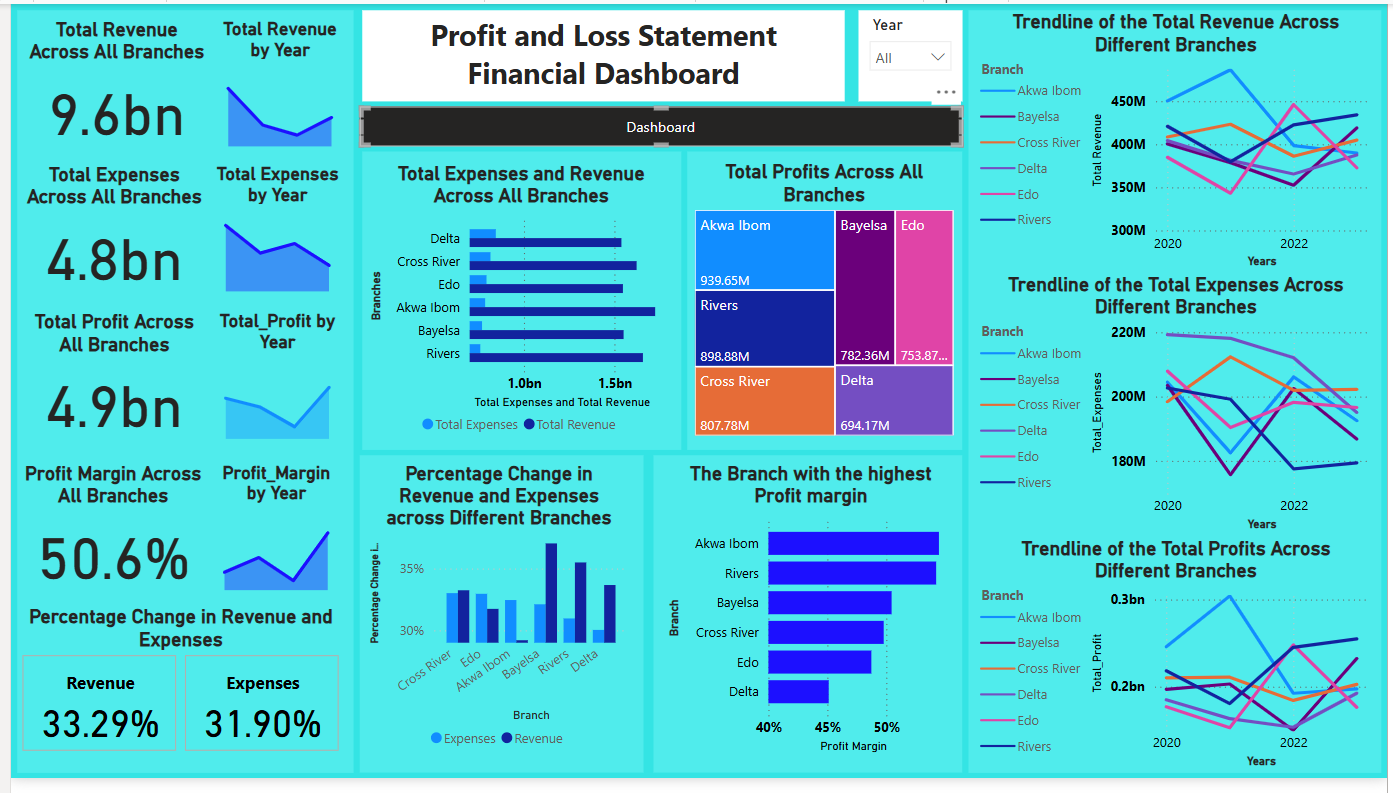

This screenshot's page, from the dashboard's own definition file:
{"tool":"powerbi","page":{"name":"Dashboard","canvas":[1280,720],"ordinal":0},"visuals":[{"type":"shape","box":[5.5,5.5,312.9,709.4],"z":0},{"type":"shape","box":[890.6,5.5,384.2,709.4],"z":1000},{"type":"shape","box":[324.4,419.8,264,295.3],"z":2000},{"type":"shape","box":[629.2,136.8,255.8,277.7],"z":3000},{"type":"shape","box":[597.7,419.8,287.2,295.3],"z":4000},{"type":"shape","box":[326.9,136.8,296.8,277.7],"z":5000},{"type":"card","title":"Total Revenue Across All Branches","fields":{"Values":["Measure_Table.Total_Revenue"]},"box":[9.2,12.3,178.4,124.9],"z":6000},{"type":"areaChart","fields":{"Y":["Measure_Table.Total_Revenue"],"Category":["Date.Year"]},"box":[187.6,12.3,126.2,124.9],"z":7000},{"type":"card","title":"Total Expenses Across All Branches","fields":{"Values":["Measure_Table.Total_Expenses"]},"box":[6.9,147.1,178.4,124.9],"z":8000},{"type":"areaChart","fields":{"Category":["Date.Year"],"Y":["Measure_Table.Total_Expenses"]},"box":[185.3,147.1,126.2,124.9],"z":9000},{"type":"card","title":"Total Profit Across All Branches","fields":{"Values":["Measure_Table.Total_Profit"]},"box":[6.9,284.5,178.4,124.9],"z":10000},{"type":"areaChart","fields":{"Y":["Measure_Table.Total_Profit"],"Category":["Date.Year"]},"box":[185.2,284.5,126.2,124.9],"z":11000},{"type":"card","title":"Profit Margin Across All Branches","fields":{"Values":["Measure_Table.Profit_Margin"]},"box":[5.5,425.8,178.4,124.9],"z":12000},{"type":"areaChart","fields":{"Y":["Measure_Table.Profit_Margin"],"Category":["Date.Year"]},"box":[183.9,425.8,126.2,124.9],"z":13000},{"type":"cardVisual","title":"Percentage Change in Revenue and Expenses","fields":{"Data":["Measure_Table.Percentage Change in Revenue","Measure_Table.Percentage Change in Expenses"]},"box":[5.5,559.9,304.6,141.3],"z":14000},{"type":"clusteredBarChart","title":"Total Expenses and Revenue Across All Branches","fields":{"Category":["general_ledger_bottle_water_company general.Branch"],"Y":["Measure_Table.Total_Expenses","Measure_Table.Total_Revenue"]},"box":[329.6,146.4,291.3,262.6],"z":15000},{"type":"treemap","title":"Total Profits Across All Branches","fields":{"Group":["general_ledger_bottle_water_company general.Branch"],"Values":["Measure_Table.Total_Profit"]},"box":[631.9,145,250.3,261.3],"z":16000},{"type":"lineChart","title":"Trendline of the Total Revenue Across Different Branches","fields":{"Category":["Date.Year"],"Series":["general_ledger_bottle_water_company general.Branch"],"Y":["Measure_Table.Total_Revenue"]},"box":[897.3,5.5,372,244.8],"z":17000},{"type":"lineChart","title":"Trendline of the Total Expenses Across Different Branches","fields":{"Category":["Date.Year"],"Series":["general_ledger_bottle_water_company general.Branch"],"Y":["Measure_Table.Total_Expenses"]},"box":[897.3,250.3,372,244.8],"z":18000},{"type":"lineChart","title":"Trendline of the Total Profits Across Different Branches","fields":{"Category":["Date.Year"],"Series":["general_ledger_bottle_water_company general.Branch"],"Y":["Measure_Table.Total_Profit"]},"box":[897.3,495.2,372,220.2],"z":19000},{"type":"slicer","fields":{"Values":["Date.Year"]},"box":[788.4,5.8,96.5,84.9],"z":20000},{"type":"clusteredBarChart","title":"The Branch with the highest Profit margin","fields":{"Category":["general_ledger_bottle_water_company general.Branch"],"Y":["Measure_Table.Profit_Margin"]},"box":[607,425.6,274.4,275.6],"z":20001},{"type":"clusteredColumnChart","title":"Percentage Change in Revenue and Expenses across Different Branches","fields":{"Category":["general_ledger_bottle_water_company general.Branch"],"Y":["Measure_Table.Percentage Change in Expenses","Measure_Table.Percentage Change in Revenue"]},"box":[329.1,425.6,250,275.6],"z":20002},{"type":"textbox","box":[326.7,5.8,448.8,84.9],"z":20003},{"type":"pageNavigator","box":[324.4,95.3,560.5,37.2],"z":20004}]}

Visuals, with their boxes in screenshot pixels (x1, y1, x2, y2), scaled from the page's 1280x720 canvas onto the 1393x793 screenshot:
shape: [left=6, top=6, right=347, bottom=787]
shape: [left=969, top=6, right=1387, bottom=787]
shape: [left=353, top=462, right=640, bottom=788]
shape: [left=685, top=151, right=963, bottom=457]
shape: [left=650, top=462, right=963, bottom=788]
shape: [left=356, top=151, right=679, bottom=457]
"Total Revenue Across All Branches" card: [left=10, top=14, right=204, bottom=151]
areaChart - Measure_Table.Total_Revenue x Date.Year: [left=204, top=14, right=342, bottom=151]
"Total Expenses Across All Branches" card: [left=8, top=162, right=202, bottom=300]
areaChart - Date.Year x Measure_Table.Total_Expenses: [left=202, top=162, right=339, bottom=300]
"Total Profit Across All Branches" card: [left=8, top=313, right=202, bottom=451]
areaChart - Measure_Table.Total_Profit x Date.Year: [left=202, top=313, right=339, bottom=451]
"Profit Margin Across All Branches" card: [left=6, top=469, right=200, bottom=607]
areaChart - Measure_Table.Profit_Margin x Date.Year: [left=200, top=469, right=337, bottom=607]
"Percentage Change in Revenue and Expenses" cardVisual: [left=6, top=617, right=337, bottom=772]
"Total Expenses and Revenue Across All Branches" clusteredBarChart: [left=359, top=161, right=676, bottom=450]
"Total Profits Across All Branches" treemap: [left=688, top=160, right=960, bottom=447]
"Trendline of the Total Revenue Across Different Branches" lineChart: [left=977, top=6, right=1381, bottom=276]
"Trendline of the Total Expenses Across Different Branches" lineChart: [left=977, top=276, right=1381, bottom=545]
"Trendline of the Total Profits Across Different Branches" lineChart: [left=977, top=545, right=1381, bottom=788]
slicer - Date.Year: [left=858, top=6, right=963, bottom=100]
"The Branch with the highest Profit margin" clusteredBarChart: [left=661, top=469, right=959, bottom=772]
"Percentage Change in Revenue and Expenses across Different Branches" clusteredColumnChart: [left=358, top=469, right=630, bottom=772]
textbox: [left=356, top=6, right=844, bottom=100]
pageNavigator: [left=353, top=105, right=963, bottom=146]
